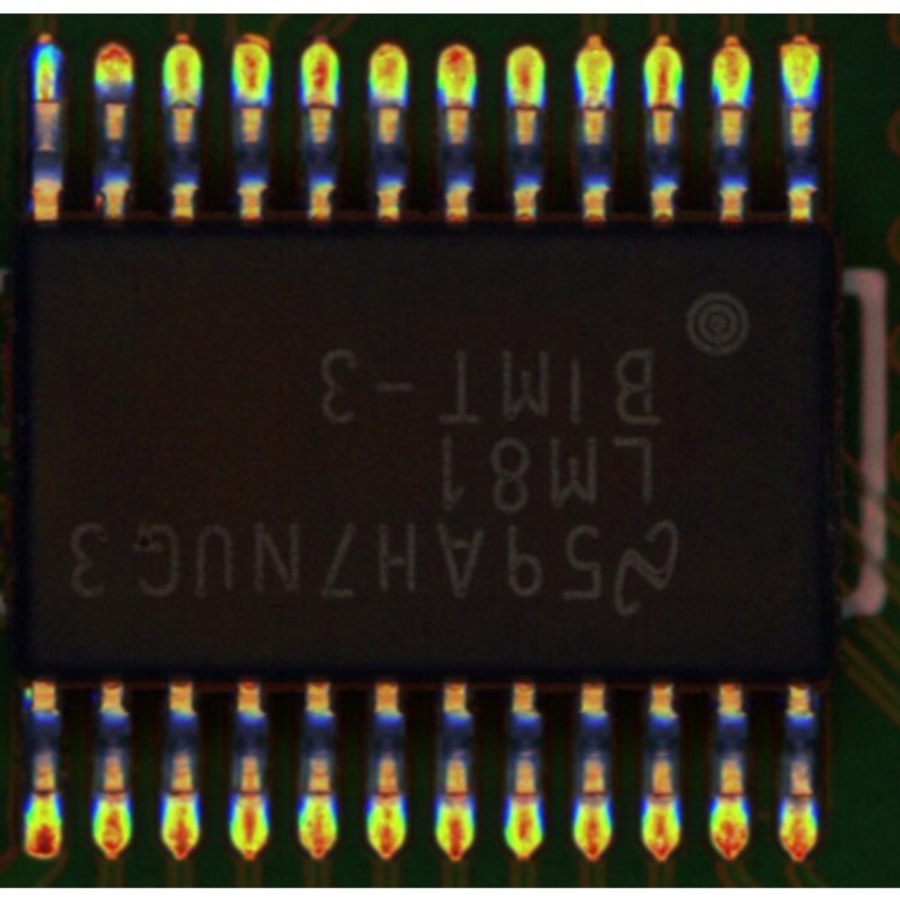Bad_podu: (654, 81, 673, 127), (377, 778, 395, 818), (39, 80, 53, 118)
